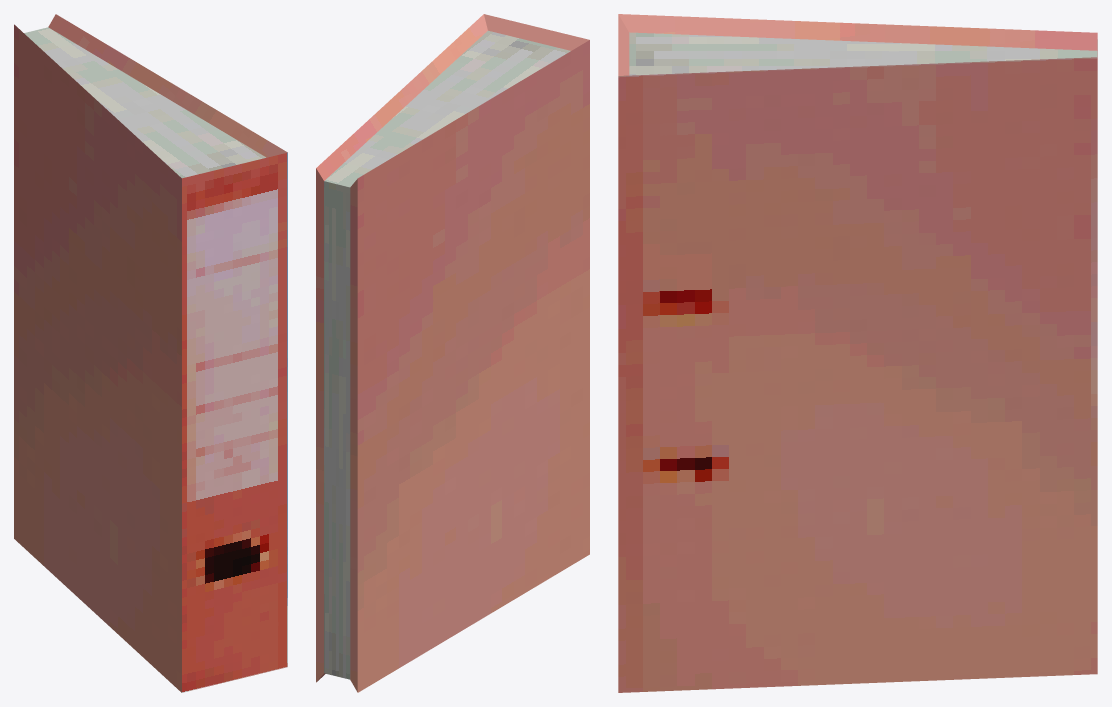
File: file_binder_alt4.glb
3 views of the same model, side by side, from view 1: azimuth 30°, elevation 25°; view 2: azimuth 150°, elevation 25°; view 3: azimuth 270°, elevation 25° (orthographic). The views are drawn at different scales.
Parts seen in each view (by area): view 1: file_binder_alt4; view 2: file_binder_alt4; view 3: file_binder_alt4.
Part boxes in pixels (x1,y1,x2,y2): file_binder_alt4: [14, 14, 287, 692]; file_binder_alt4: [316, 14, 589, 692]; file_binder_alt4: [618, 14, 1097, 692].
Size of the model in its own units: 0.0911 by 0.4225 by 0.2975.
1 material, 1 textured.
